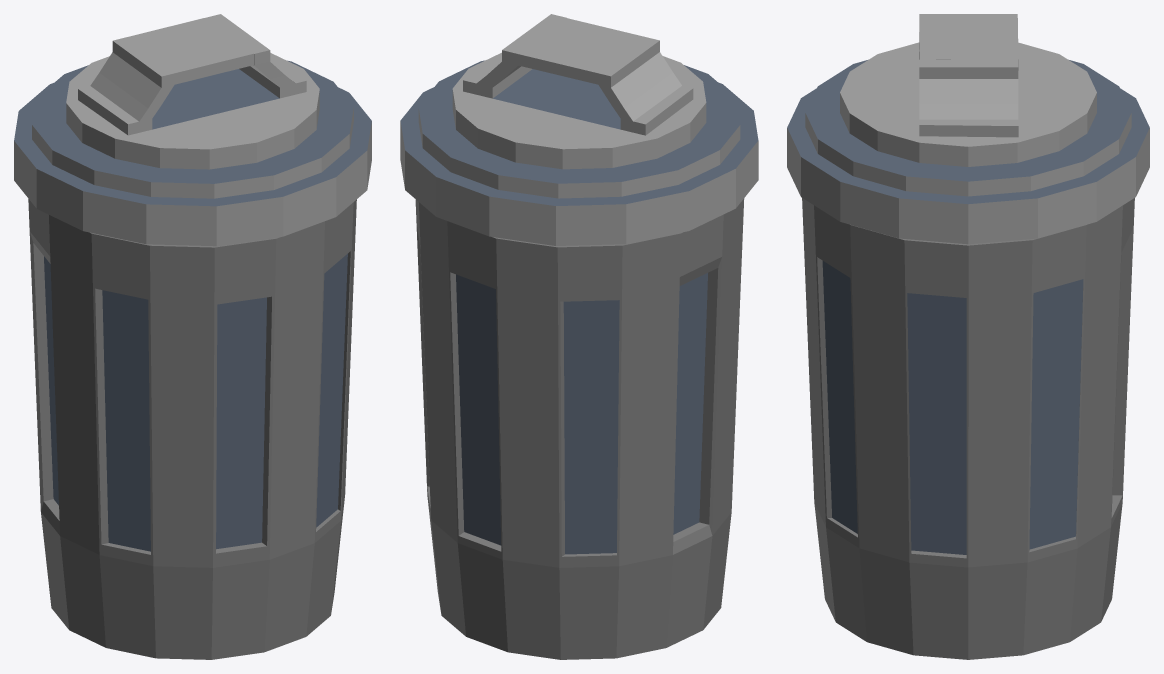
File: lixo.fbx
3 renders of one model, left to right at view 1: azimuth 30°, elevation 25°; view 2: azimuth 150°, elevation 25°; view 3: azimuth 270°, elevation 25°, orthographic.
Visible parts, largest first — view 1: Cylinder, Cylinder.001; view 2: Cylinder, Cylinder.001; view 3: Cylinder, Cylinder.001.
Boxes of the visible parts, x1,y1,x2,y2 form: Cylinder: (28,199,356,659); Cylinder.001: (14,14,371,246); Cylinder: (415,198,744,659); Cylinder.001: (400,14,758,245); Cylinder: (802,198,1134,659); Cylinder.001: (787,14,1149,244).
Bounding box in the file's own units: 246 × 417 × 246.
